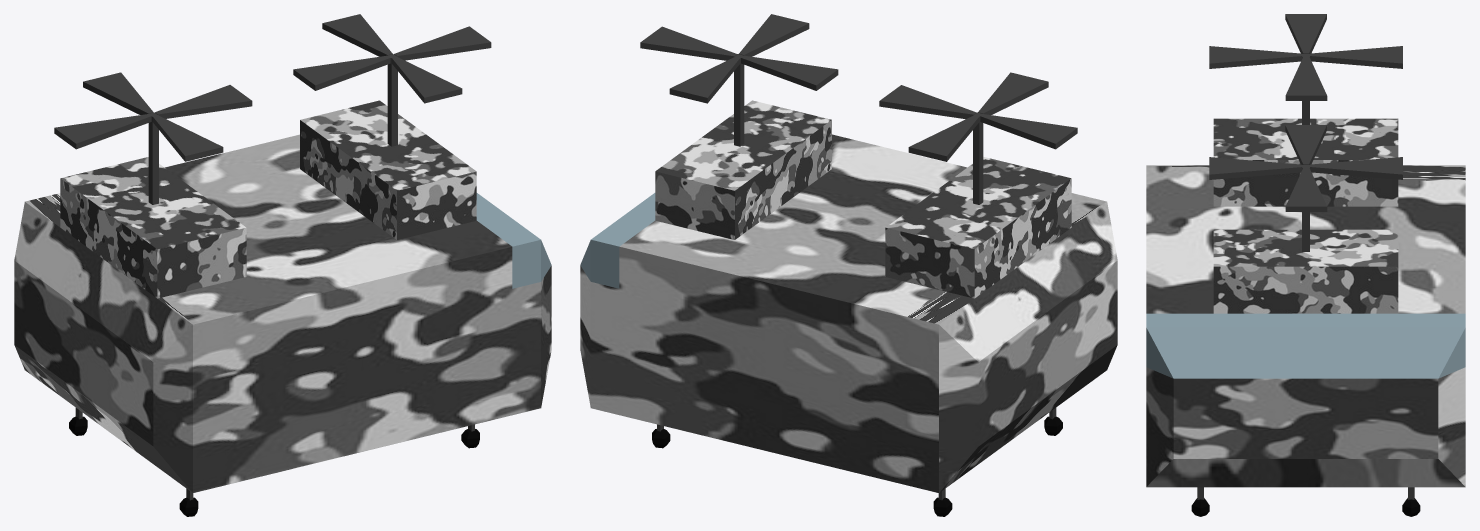
Rendered from HumanTransportV2.fbx.
3 views of the same model, side by side, from view 1: azimuth 30°, elevation 25°; view 2: azimuth 150°, elevation 25°; view 3: azimuth 270°, elevation 25° (orthographic). The views are drawn at different scales.
Visible parts, largest first — view 1: RestOfBody, Hatch, blade4 (×2), blade2 (×2), blade1 (×2), TransporterWindow, blade3 (×2), BSpinLeg, FSpinLeg; view 2: RestOfBody, blade4 (×2), blade2 (×2), blade3 (×2), TransporterWindow, blade1 (×2), FSpinLeg, BSpinLeg; view 3: RestOfBody, TransporterWindow, blade1 (×2), blade3 (×2), blade2 (×2), blade4 (×2).
Part boxes in pixels (x1,y1,x2,y2): RestOfBody: (14, 100, 551, 492); Hatch: (282, 309, 461, 471); blade4 (×2): (54, 55, 390, 149); blade2 (×2): (155, 26, 491, 118); blade1 (×2): (152, 57, 462, 161); TransporterWindow: (476, 193, 551, 288); blade3 (×2): (83, 14, 392, 114); BSpinLeg: (387, 54, 397, 146); FSpinLeg: (148, 112, 158, 204); RestOfBody: (580, 100, 1117, 492); blade4 (×2): (741, 55, 1077, 149); blade2 (×2): (640, 26, 976, 119); blade3 (×2): (669, 57, 979, 161); TransporterWindow: (580, 193, 655, 288); blade1 (×2): (739, 14, 1048, 114); FSpinLeg: (973, 112, 983, 204); BSpinLeg: (734, 54, 744, 146); RestOfBody: (1146, 118, 1465, 487); TransporterWindow: (1146, 313, 1465, 378); blade1 (×2): (1209, 46, 1302, 179); blade3 (×2): (1310, 46, 1402, 179); blade2 (×2): (1285, 56, 1327, 211); blade4 (×2): (1285, 14, 1326, 164).
Bounding box in the file's own units: 9.83 × 8.04 × 6.86.
Materials: 4 (1 with a texture image).
